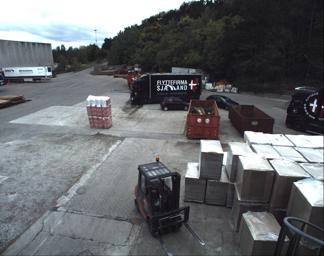rockwool_batts: (87, 93, 111, 128)
